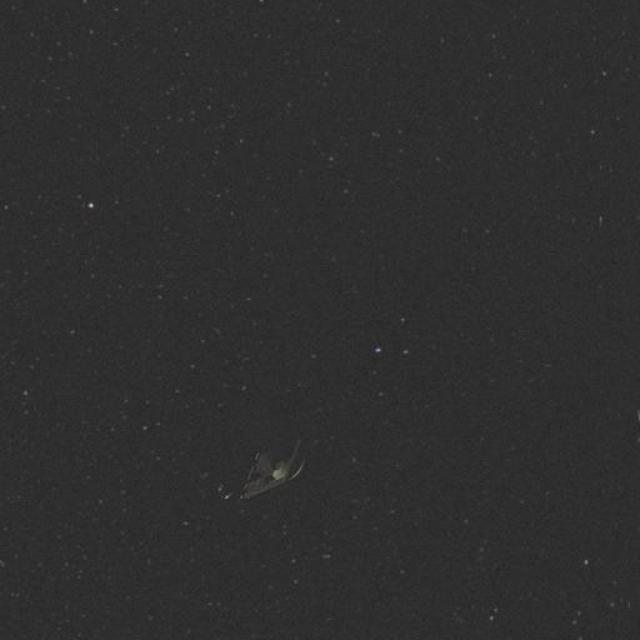proba_3_ocs: (155, 392, 364, 510)
